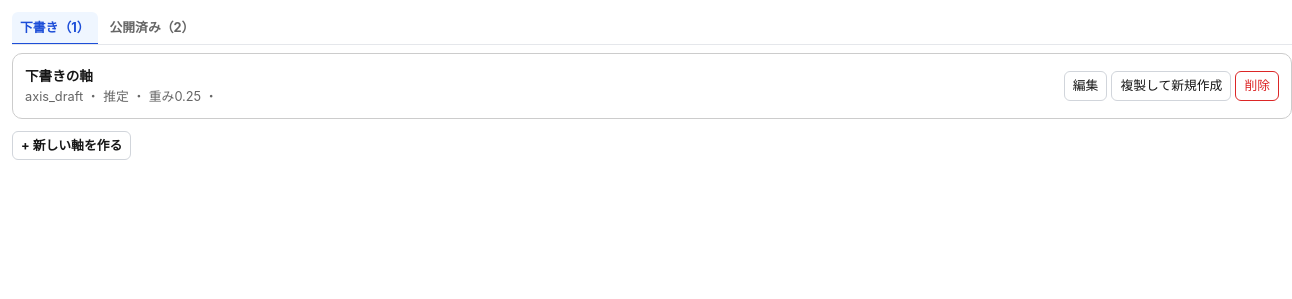
it: 非公開に戻す › 下書きへ戻して一覧を取り直す。戻せなければ理由を出す
Click the tab "公開済み（2）".
click(152, 29)  # box [102,12,202,45]
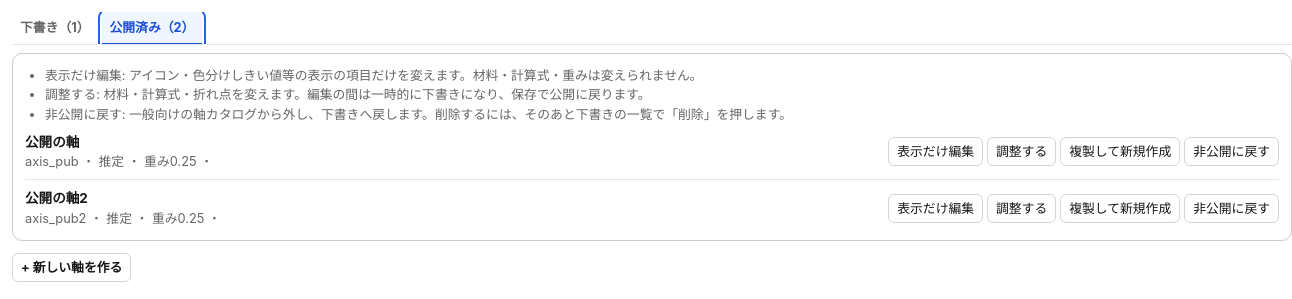
Click the 1st button "非公開に戻す".
click(1232, 152)  # box [1184,137,1279,166]
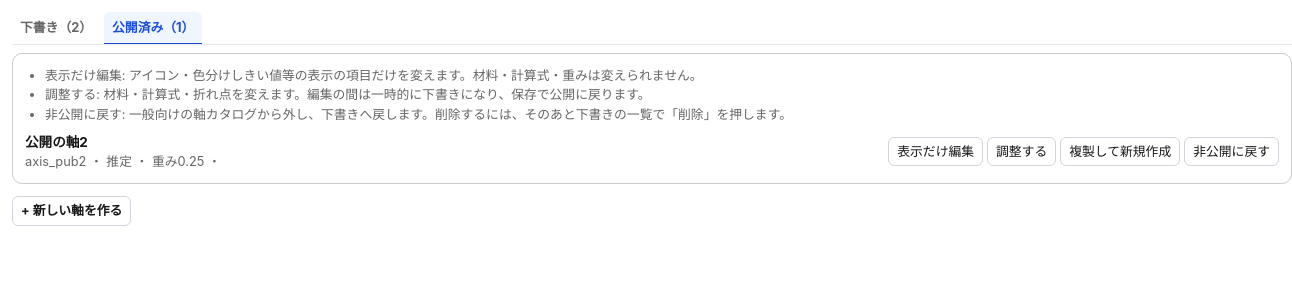
Click the button "非公開に戻す".
click(1232, 152)  # box [1184,137,1279,166]
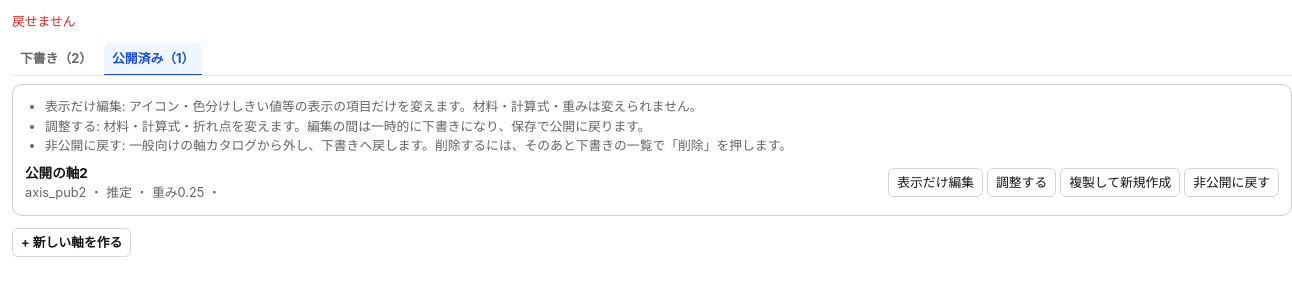
Check: the text "戻せません" is shown, box [12,14,76,29]
